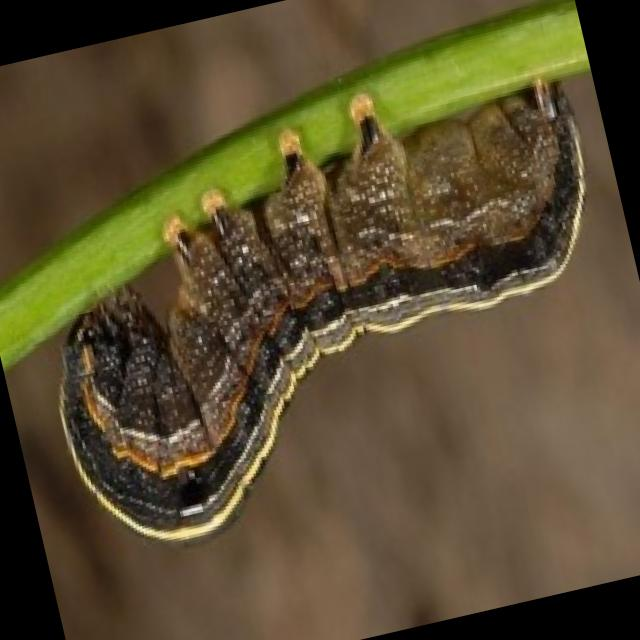armyworm: (1, 38, 640, 584)
